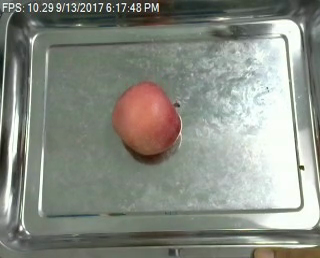Apple: (110, 79, 183, 161)
